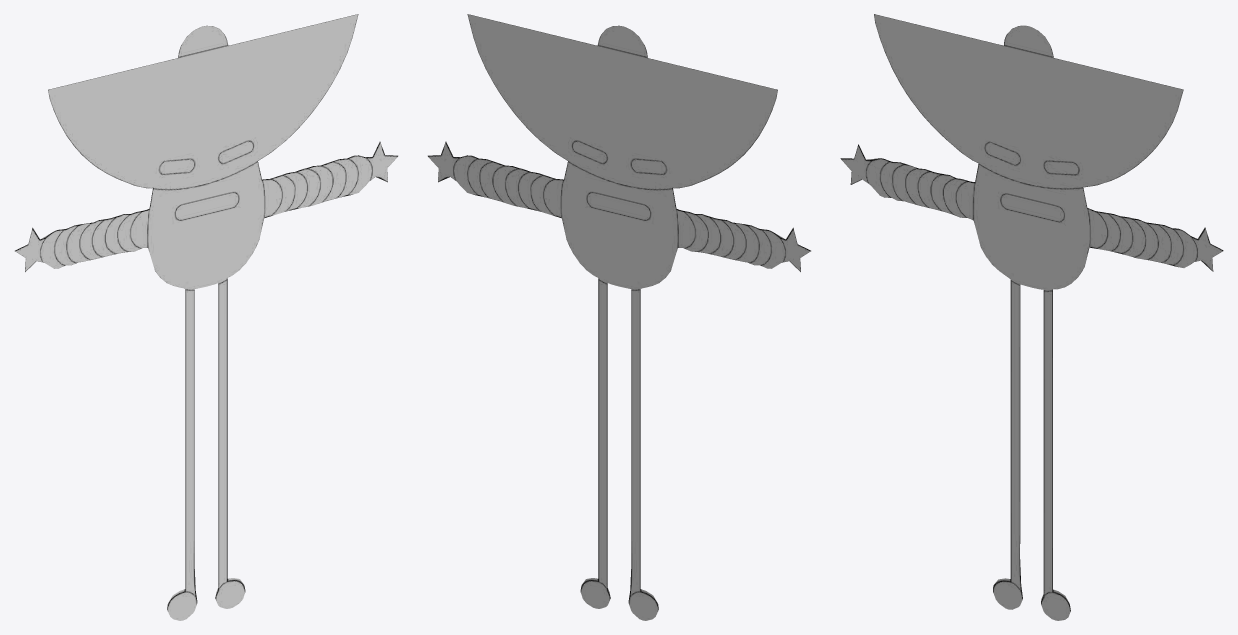
File: 16_jaki_fix.fbx
3 renders of one model, left to right at view 1: azimuth 30°, elevation 25°; view 2: azimuth 150°, elevation 25°; view 3: azimuth 330°, elevation 25°, orthographic.
Parts seen in each view (by area): view 1: planarTrimmedSurface26; view 2: planarTrimmedSurface26; view 3: planarTrimmedSurface26.
Part boxes in pixels (x1,y1,x2,y2): planarTrimmedSurface26: (15, 14, 397, 620); planarTrimmedSurface26: (428, 14, 810, 620); planarTrimmedSurface26: (840, 14, 1223, 620).
Size of the model in its own units: 8.15 by 11.95 by 5.22e-07.
1 material, 1 textured.
